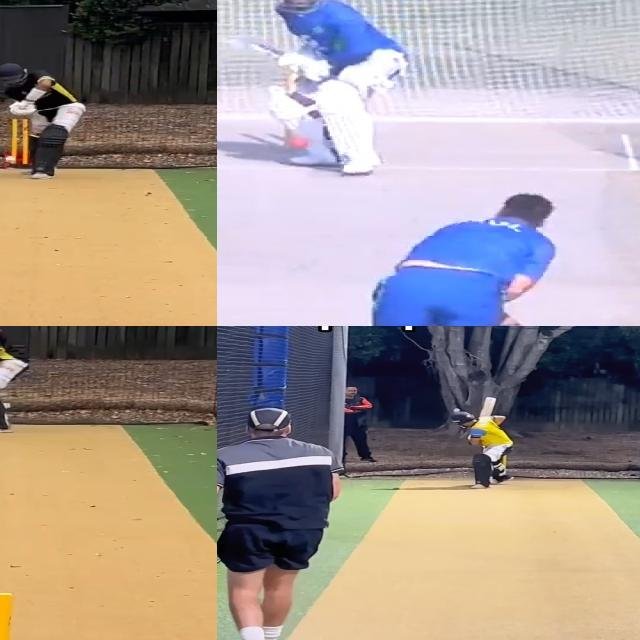Cricket ball: (287, 135, 311, 150), (5, 156, 16, 163), (452, 408, 461, 412)
